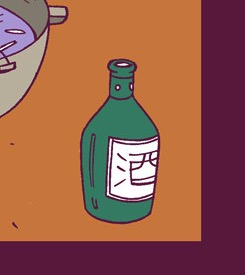bottle: (76, 52, 162, 226)
